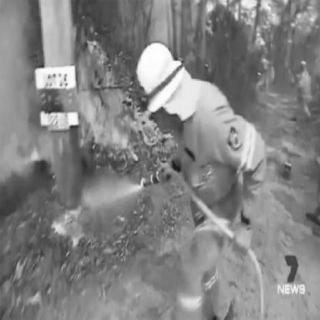other: (166, 83, 266, 316)
